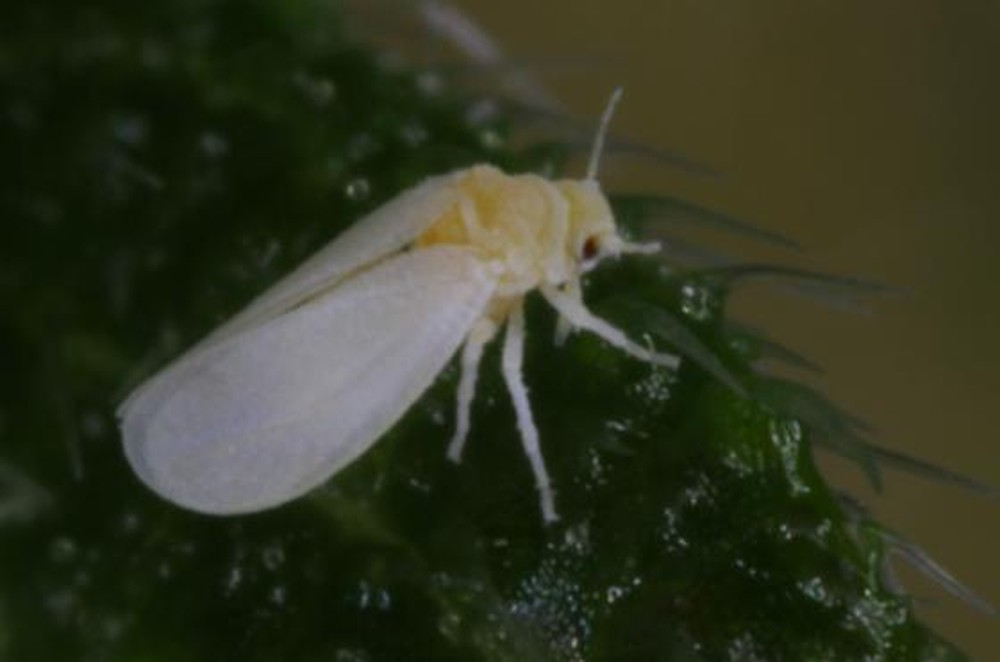Mosca Blanca: (97, 81, 704, 554)
